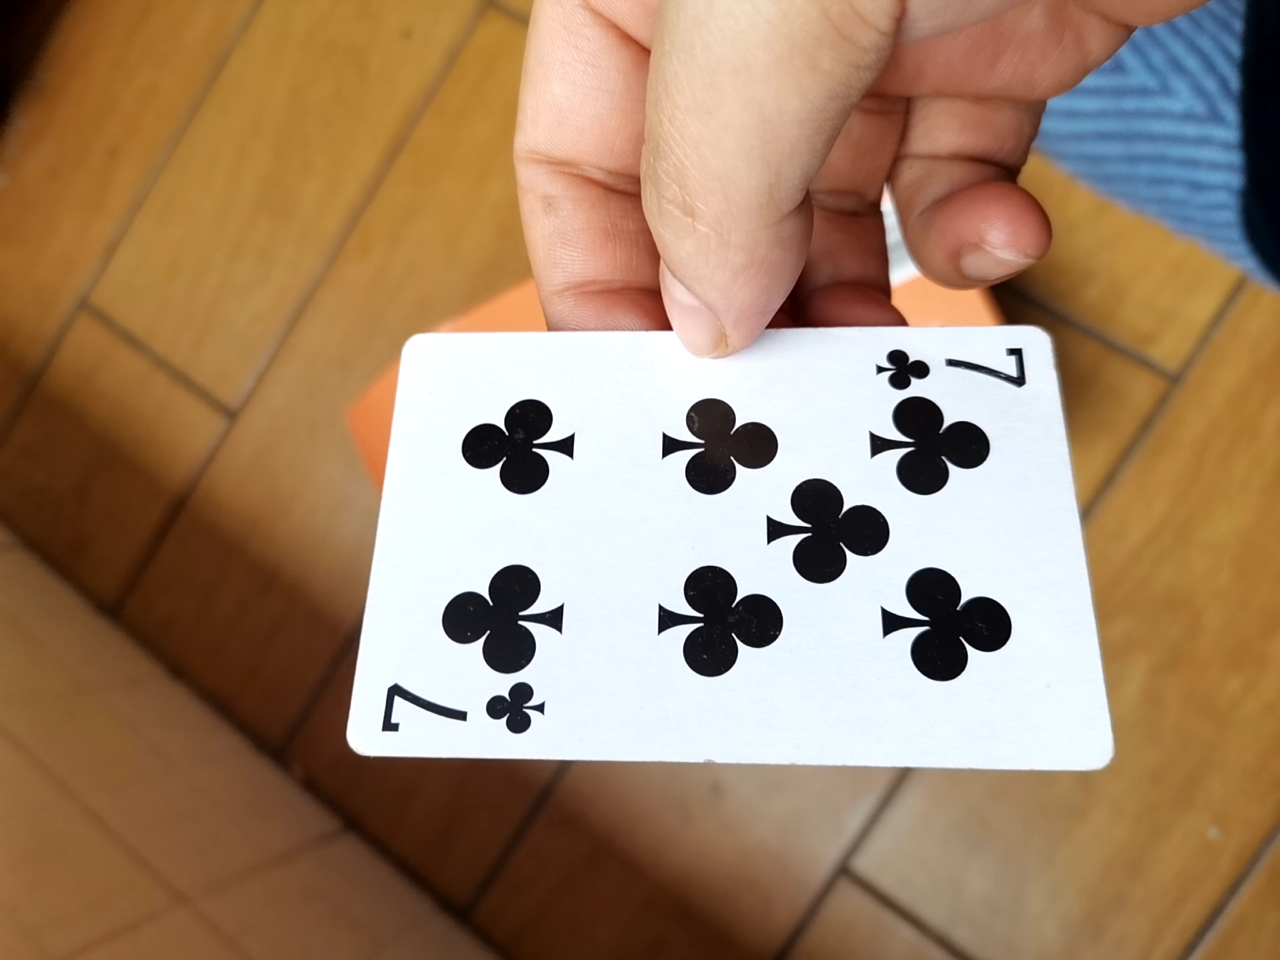mh 7: (335, 312, 1108, 783)
